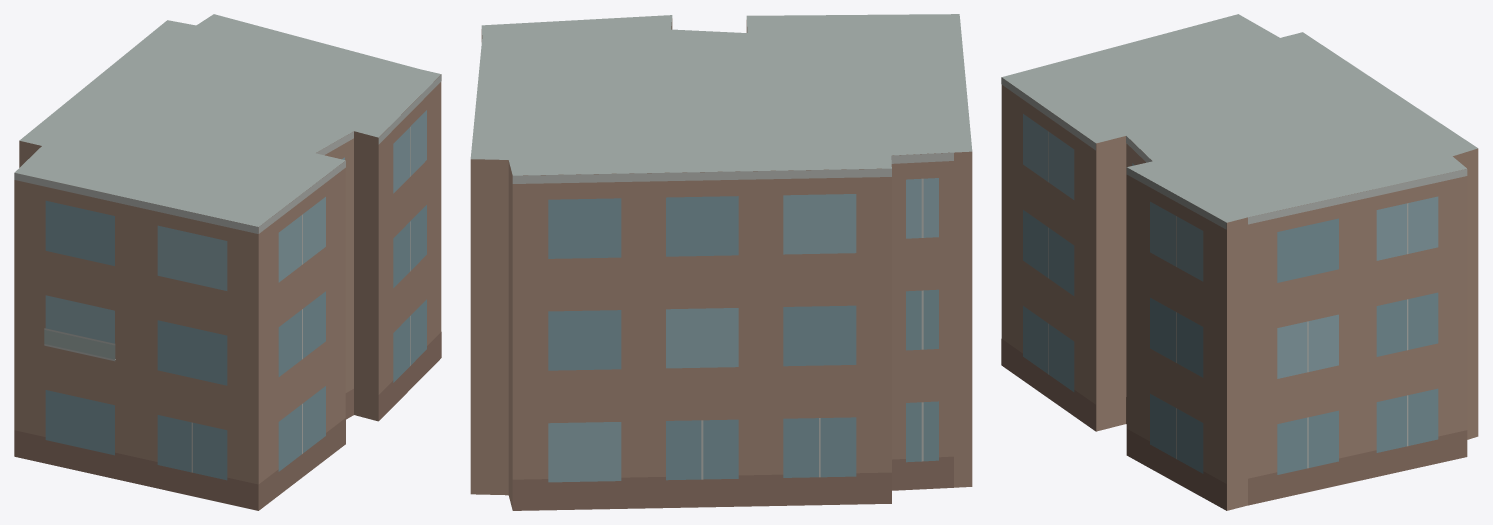
The model's file is survey-upis-32748826.glb.
The picture shows the model from 3 angles, left to right: view 1: azimuth 30°, elevation 25°; view 2: azimuth 150°, elevation 25°; view 3: azimuth 270°, elevation 25°; orthographic projection. The views are drawn at different scales.
Parts seen in each view (by area): view 1: survey-upis-32748826.tmp; view 2: survey-upis-32748826.tmp; view 3: survey-upis-32748826.tmp.
Boxes of the visible parts, x1=… form: survey-upis-32748826.tmp: x1=14, y1=14, x2=441, y2=510; survey-upis-32748826.tmp: x1=470, y1=14, x2=972, y2=510; survey-upis-32748826.tmp: x1=1001, y1=14, x2=1478, y2=510.
Size of the model in its own units: 15.07 by 9.7 by 14.56.
